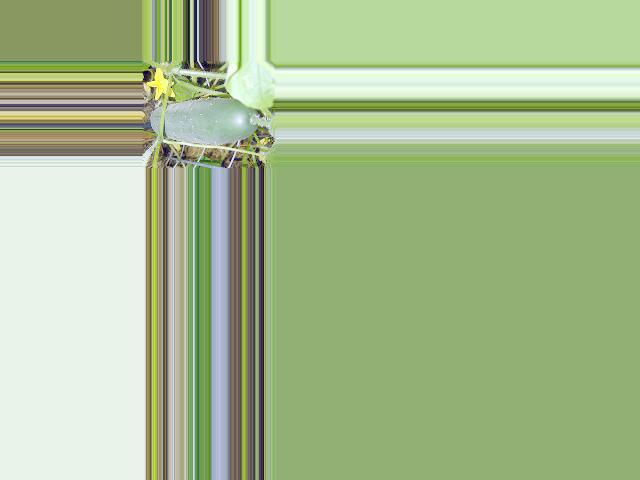cucumber: (151, 98, 260, 144)
